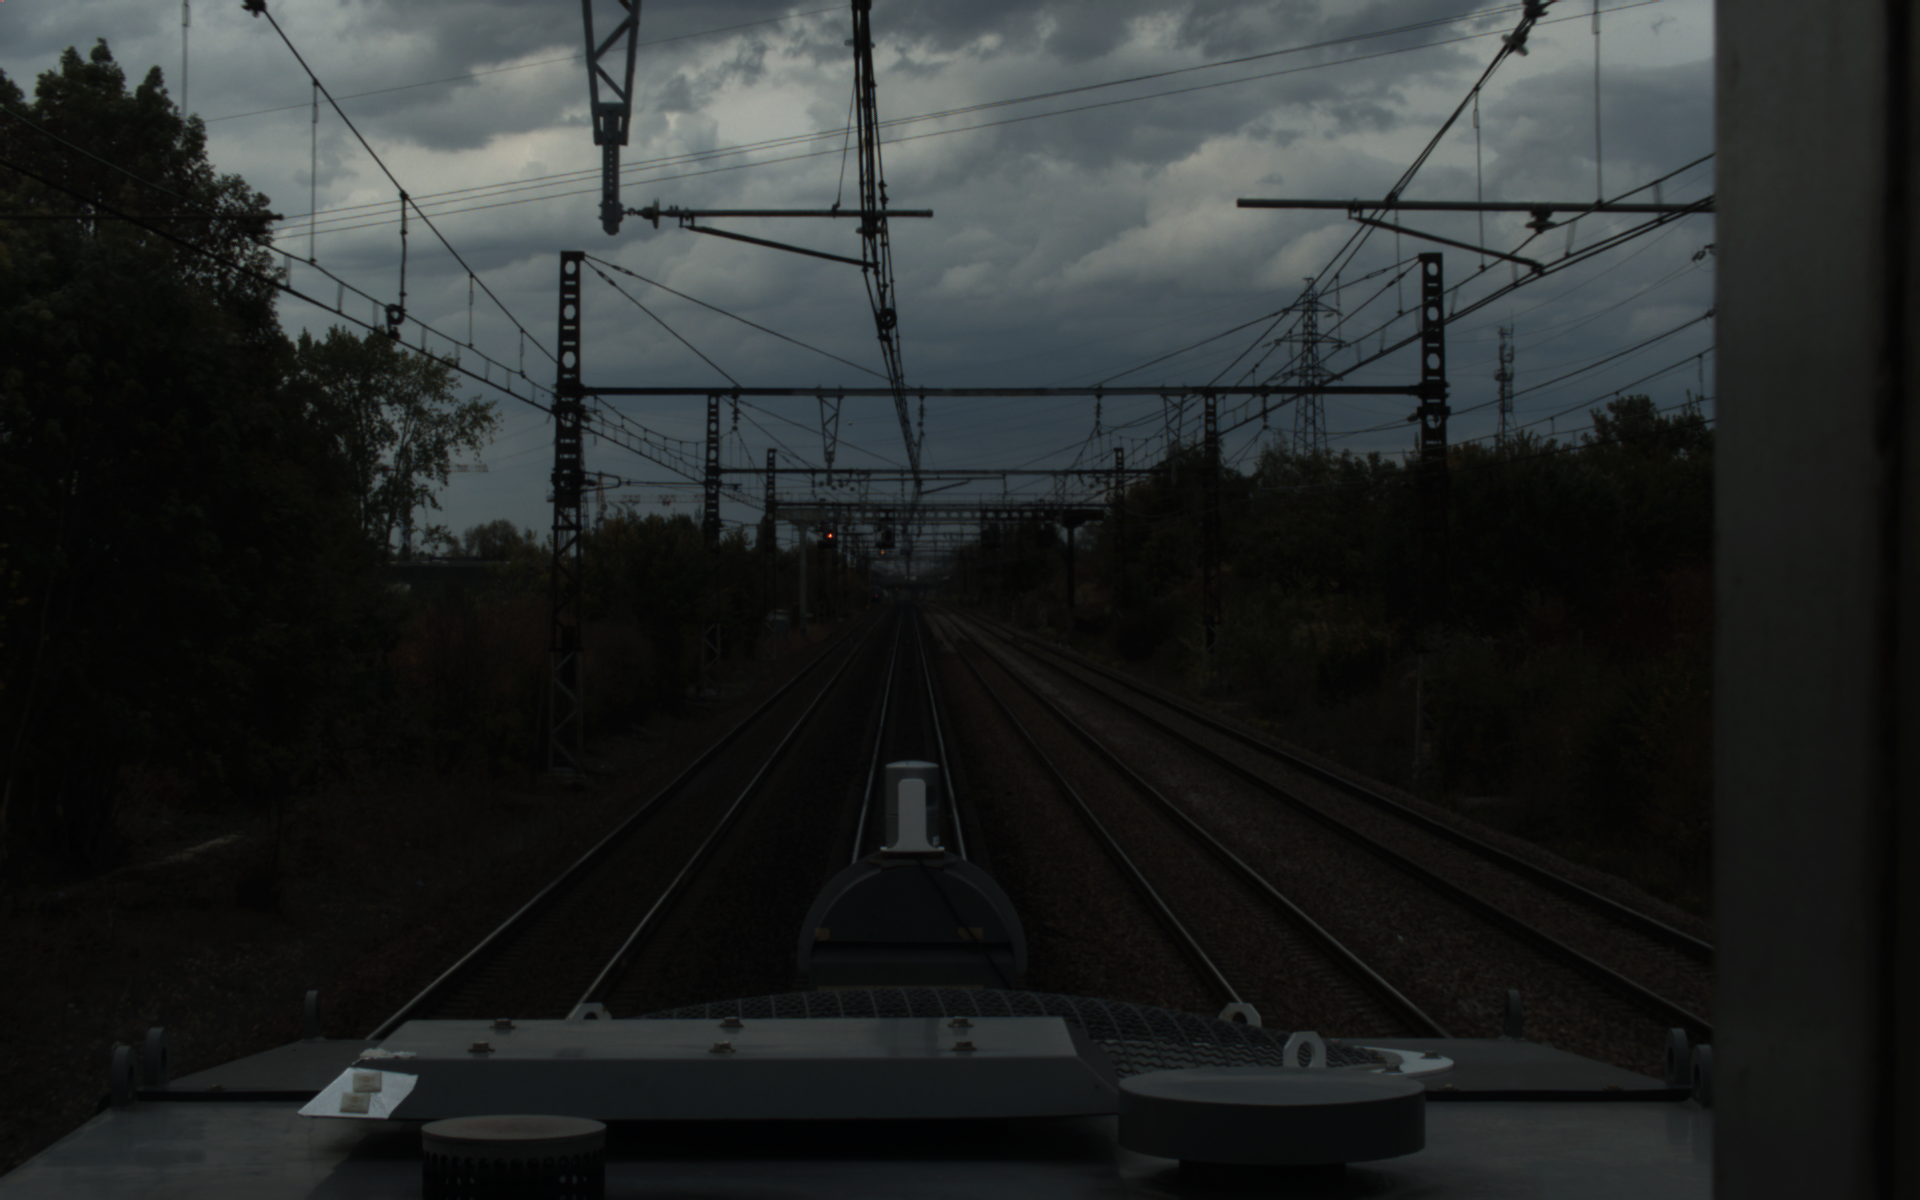Blinking: (881, 525, 894, 545)
Fixed: (822, 525, 838, 546)
